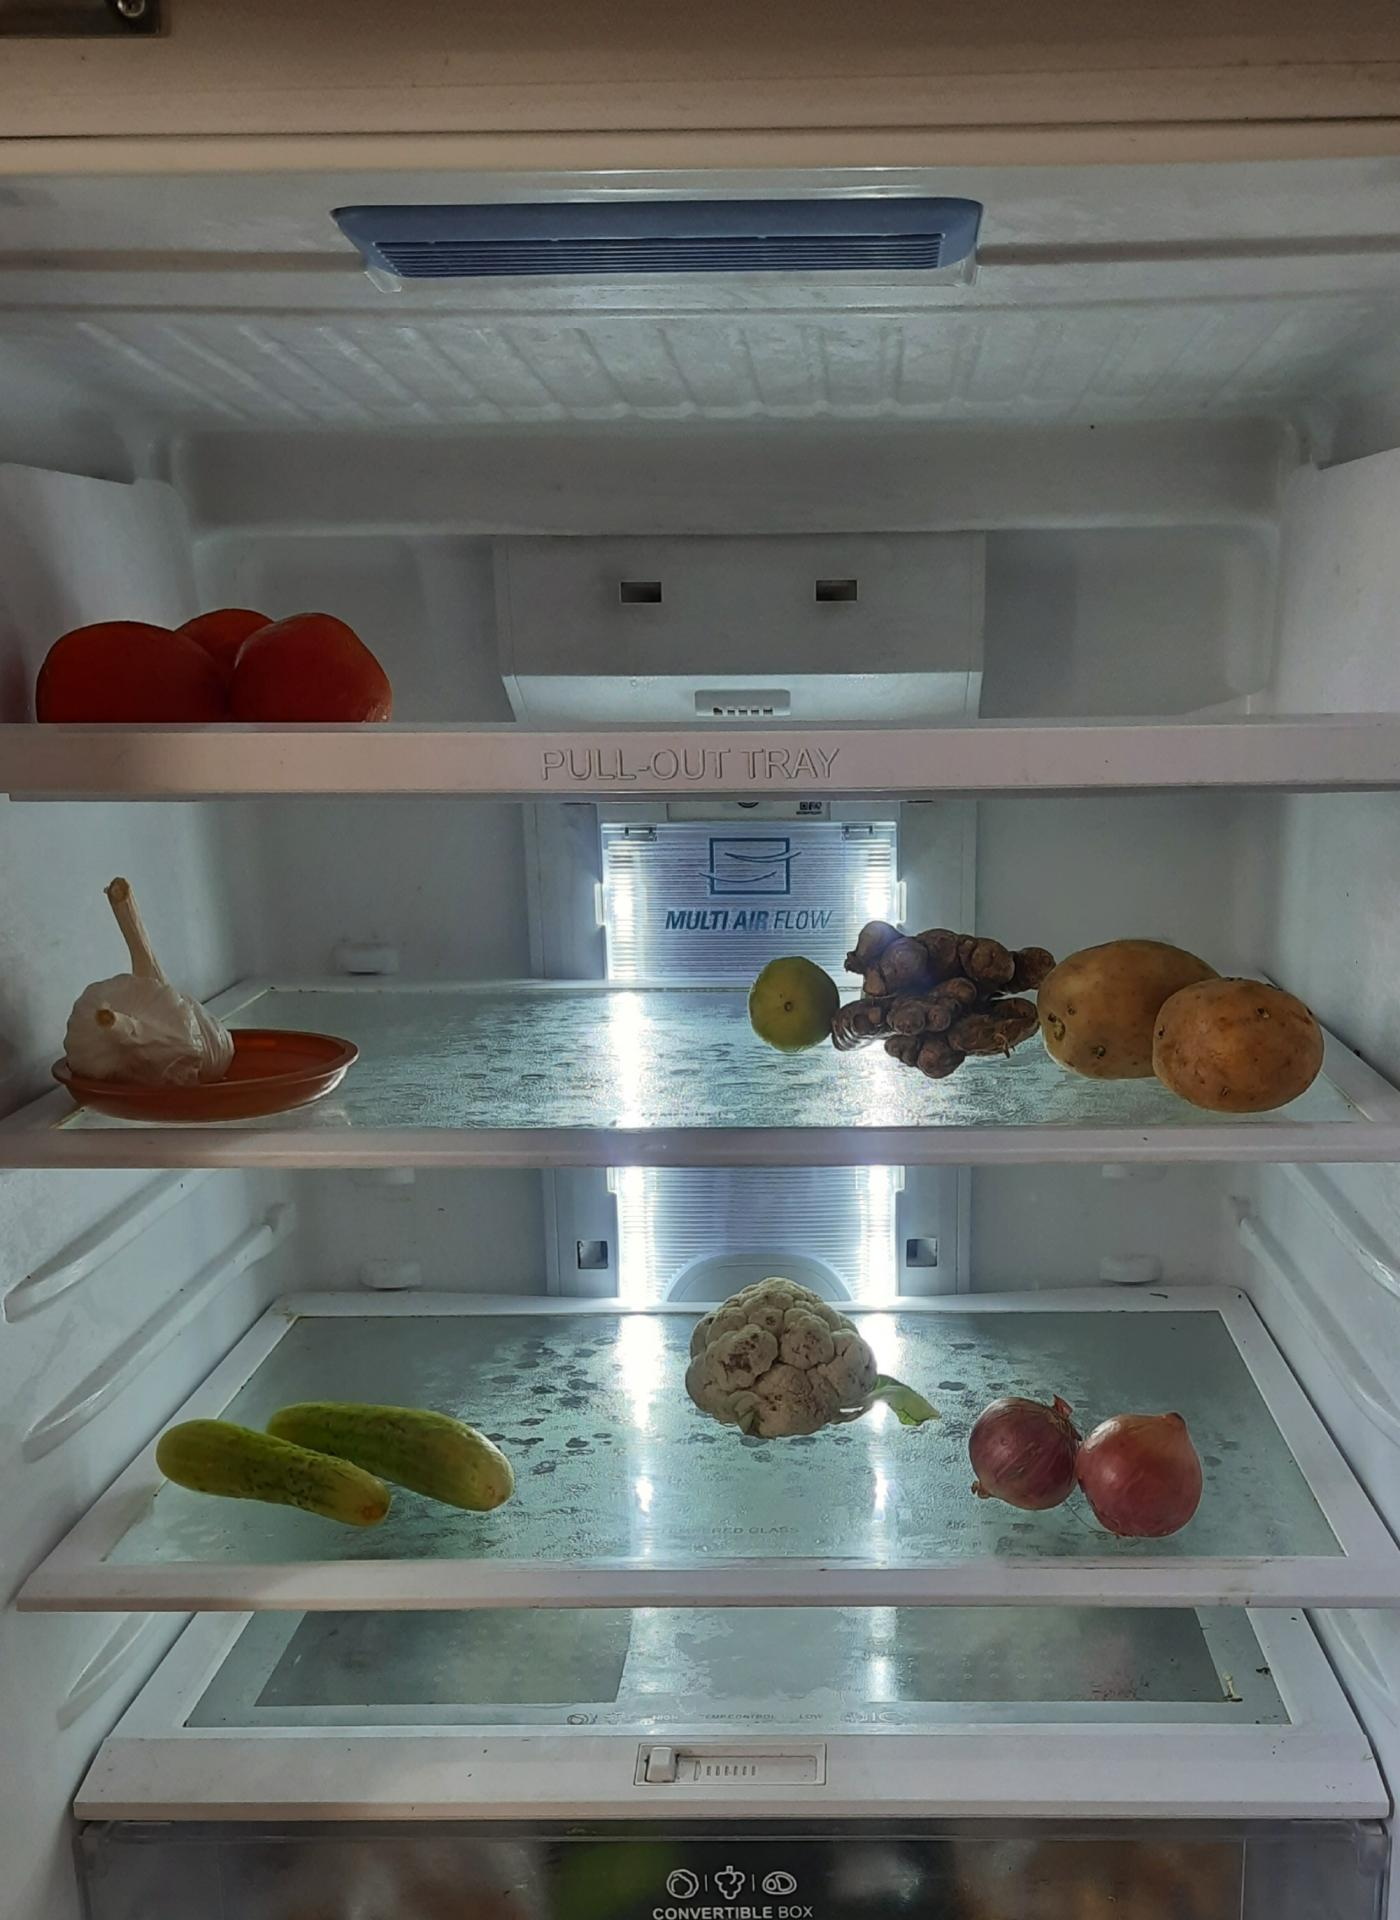cauliflower: (684, 1276, 917, 1447)
cucumber: (142, 1395, 517, 1532)
garlic: (64, 869, 234, 1079)
ginger: (833, 915, 1054, 1067)
lemon: (748, 945, 836, 1049)
onion: (968, 1389, 1208, 1534)
potato: (1044, 927, 1333, 1096)
tomato: (39, 595, 395, 717)
